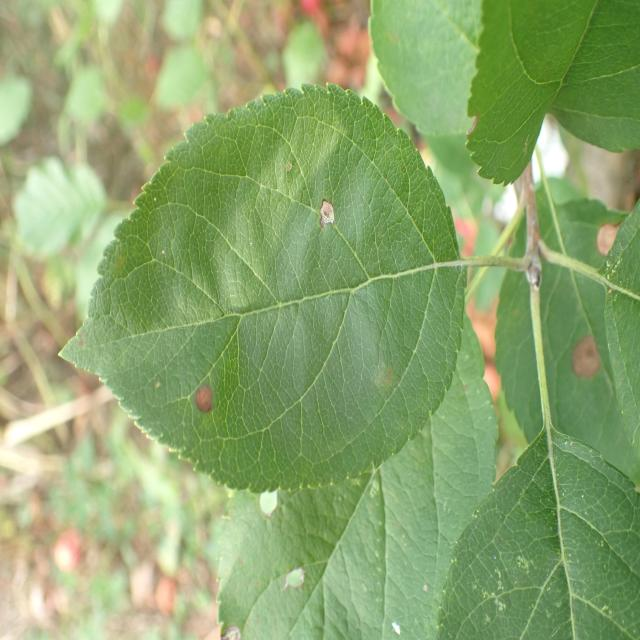frog-eye-leaf-spot: (59, 83, 468, 495), (494, 196, 640, 488)
